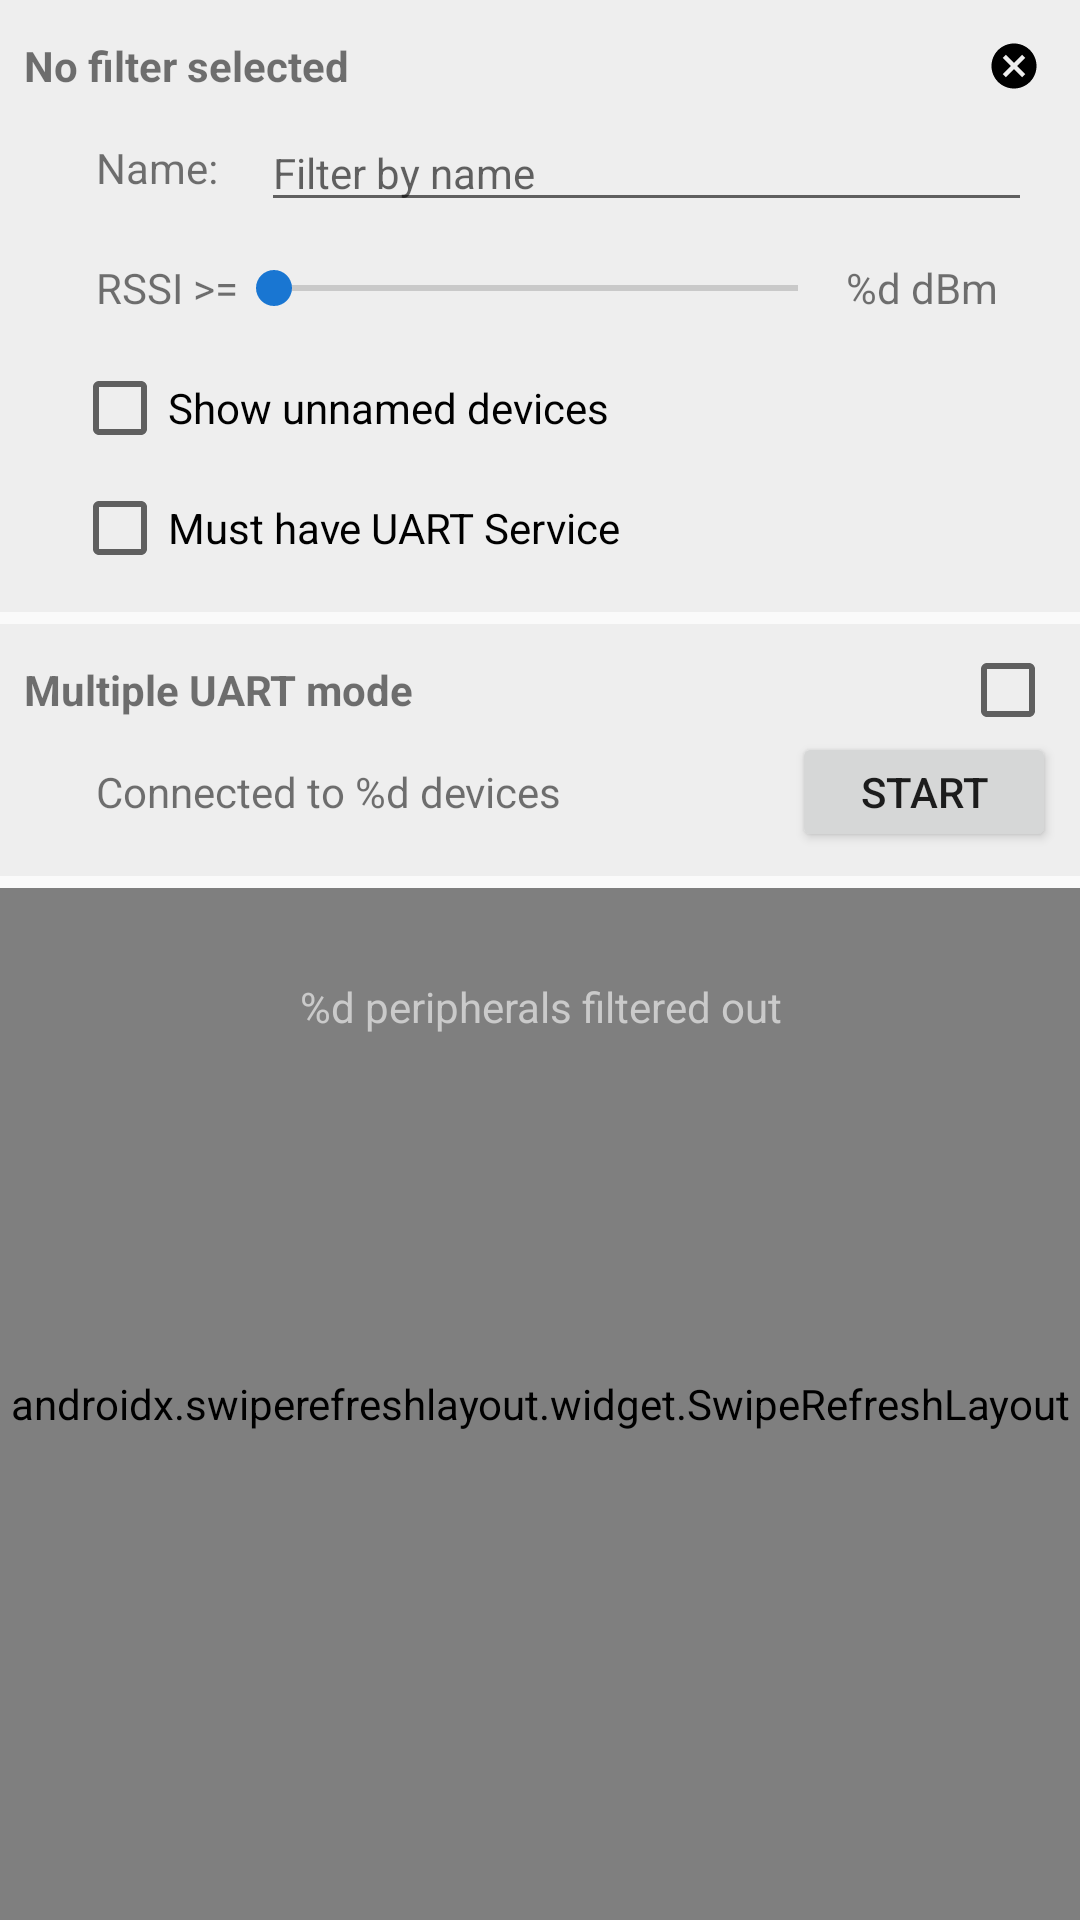

Named icons in this screenshot (1080px x 1920px) and their bounding boxes, [x1,y1,x2,y2]:
cancel: [991,43,1037,89]
